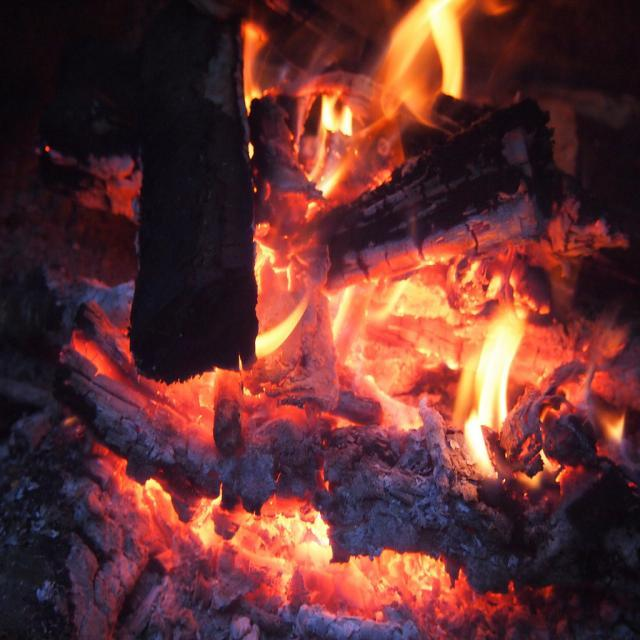Fire: (250, 504, 346, 608), (388, 3, 480, 85), (468, 308, 518, 438)
